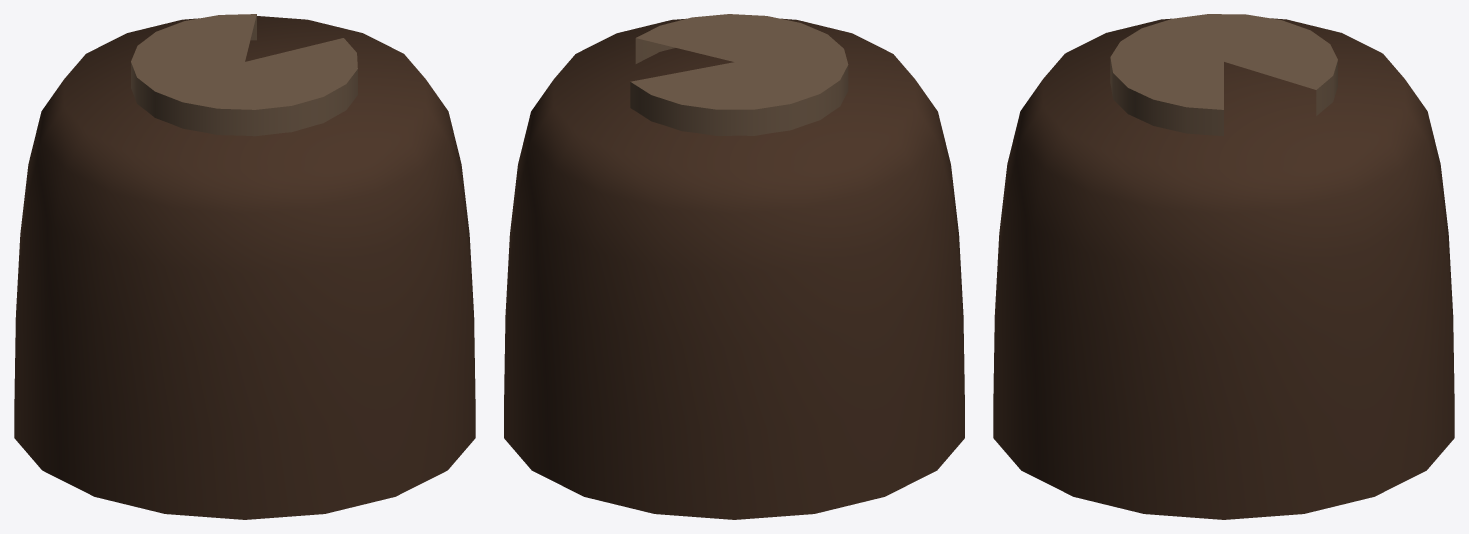
File: black_robe.obj
3 renders of one model, left to right at view 1: azimuth 30°, elevation 25°; view 2: azimuth 150°, elevation 25°; view 3: azimuth 270°, elevation 25°, orthographic.
Parts seen in each view (by area): view 1: black_robe; view 2: black_robe; view 3: black_robe.
Part boxes in pixels (<box>): black_robe: <box>14,14,475,519</box>; black_robe: <box>504,14,964,519</box>; black_robe: <box>993,14,1454,519</box>.
Bounding box in the file's own units: 1.56 × 1.32 × 1.54.
